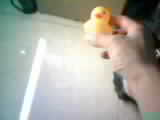duck: (82, 7, 110, 43)
